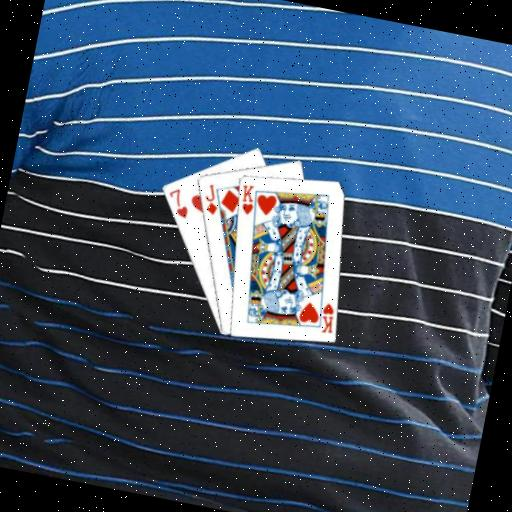7H: (161, 183, 193, 220)
JD: (198, 181, 223, 218)
KH: (315, 298, 339, 336), (235, 180, 259, 217)
